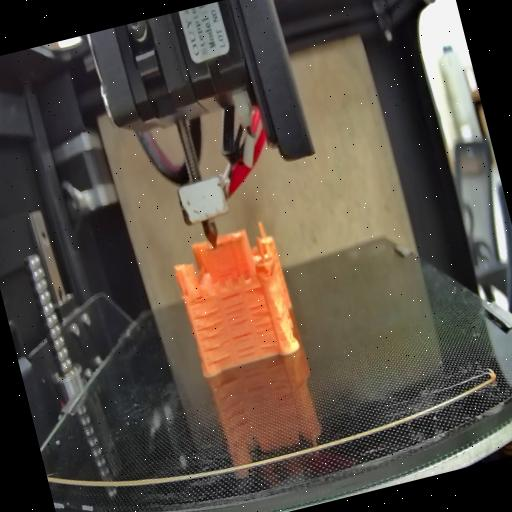cracks: (192, 308, 232, 370), (248, 302, 280, 352), (217, 290, 250, 328), (232, 330, 258, 360), (242, 282, 264, 298)
